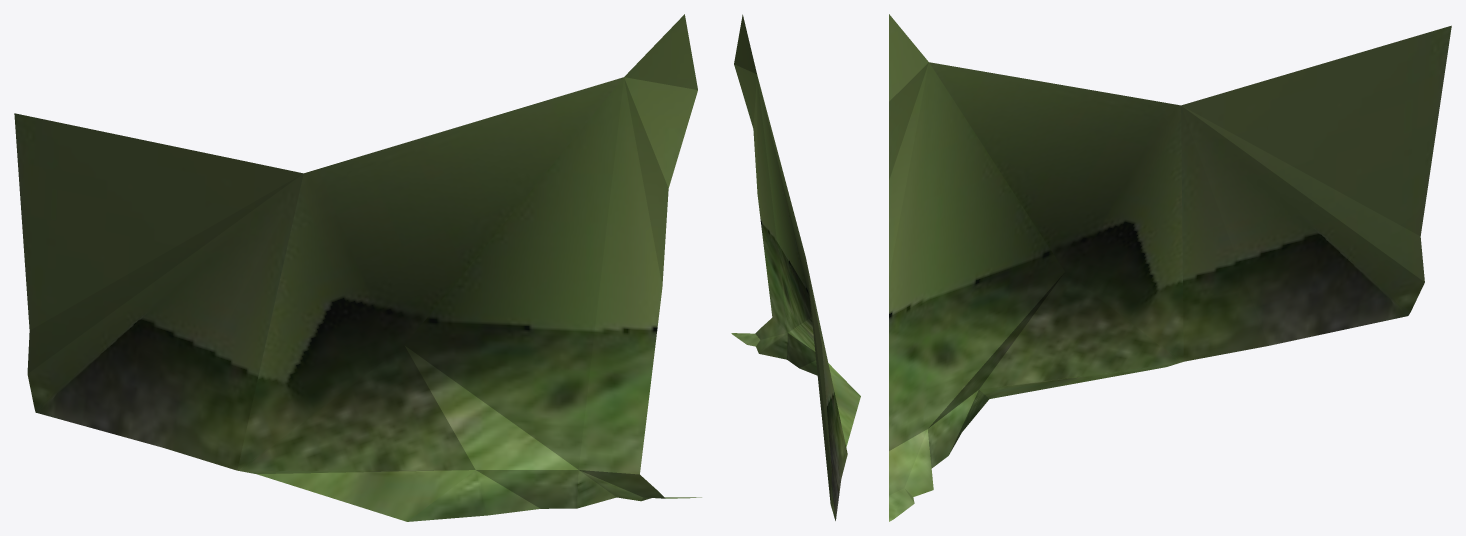
3 renders of one model, left to right at view 1: azimuth 30°, elevation 25°; view 2: azimuth 150°, elevation 25°; view 3: azimuth 270°, elevation 25°, orthographic. The views are drawn at different scales.
Size of the model in its own units: 14.31 by 16.16 by 16.51.
2 materials, 2 textured.
